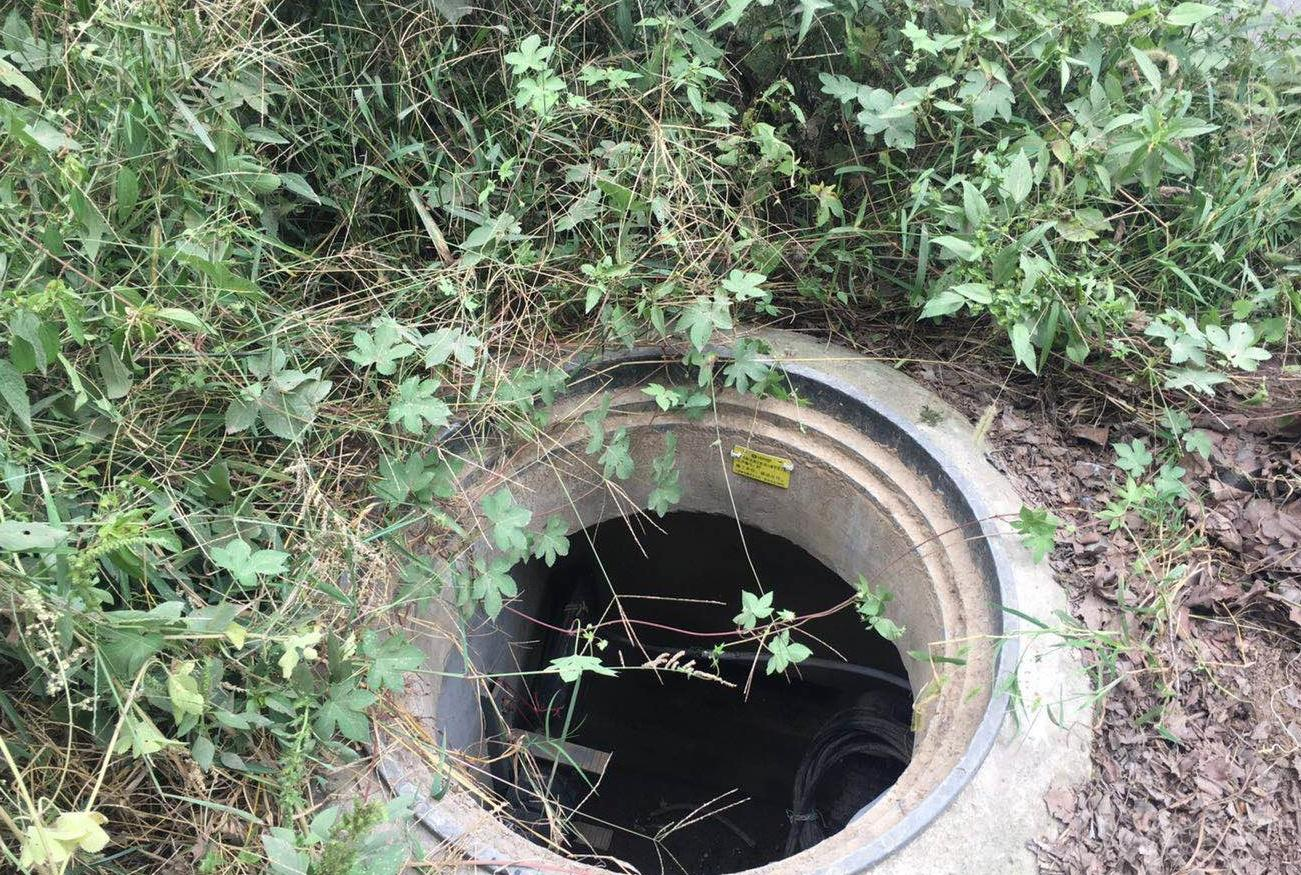wellcover: (318, 310, 1037, 875)
